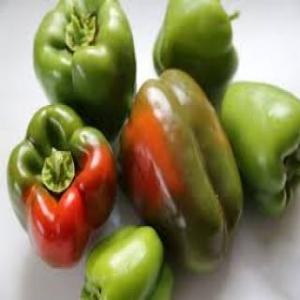bell_pepper: (108, 62, 250, 280), (6, 94, 115, 278), (28, 0, 144, 142), (219, 73, 299, 225), (150, 0, 248, 100), (76, 220, 176, 298)
